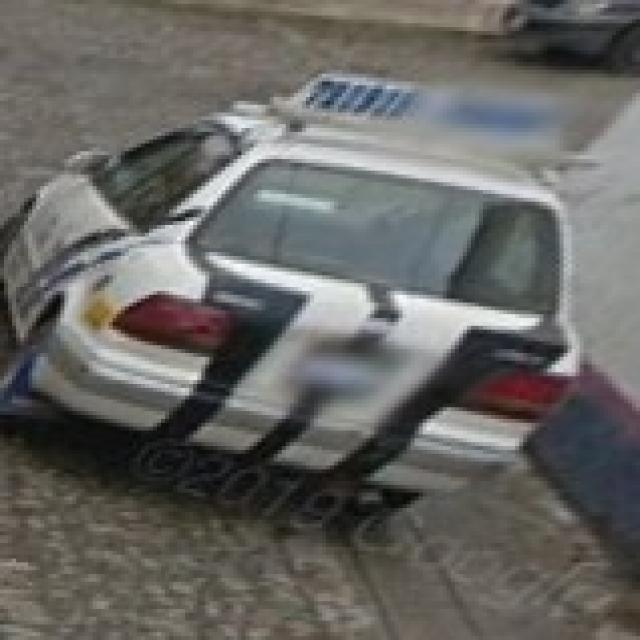cars: (13, 73, 579, 499)
